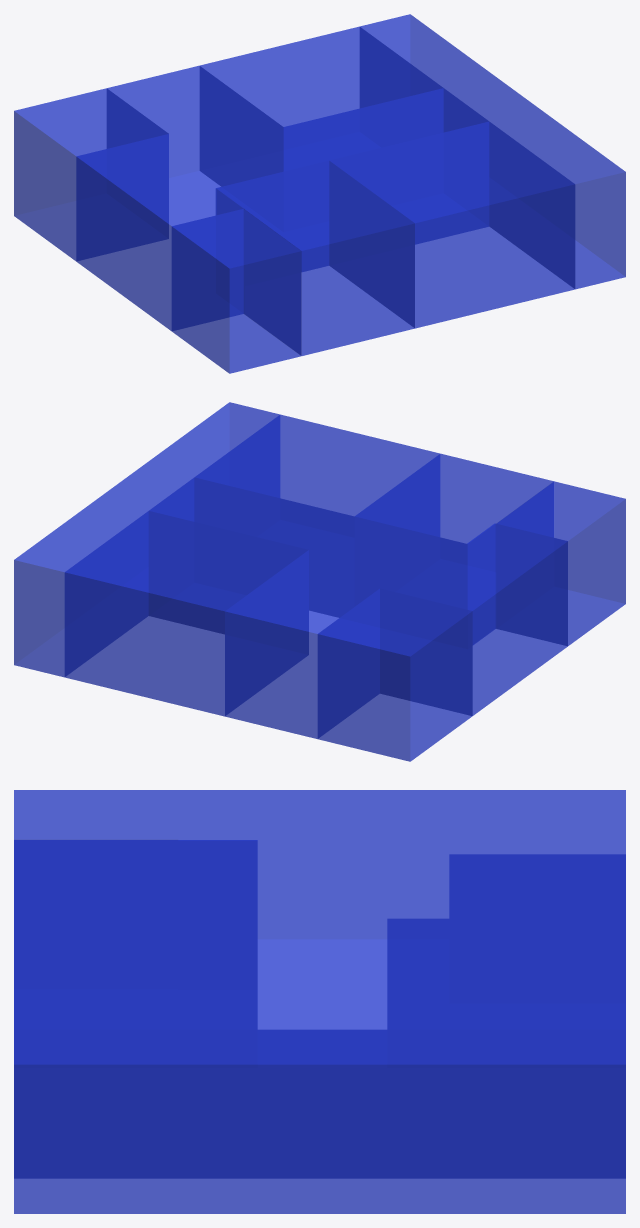
Rendered from areabox.gltf.
3 views of the same model, one above another, from view 1: azimuth 30°, elevation 25°; view 2: azimuth 150°, elevation 25°; view 3: azimuth 270°, elevation 25° (orthographic). The views are drawn at different scales.
Parts seen in each view (by area): view 1: 1F_AreaBox_Stairs, 1F_AreaBox_FrontRoom, 1F_AreaBox_Entrance, 1F_AreaBox_LivingRoom, 1F_AreaBox_DiningRoom, 1F_AreaBox_RestRoom, 1F_AreaBox_Kicken; view 2: 1F_AreaBox_Stairs, 1F_AreaBox_LivingRoom, 1F_AreaBox_Entrance, 1F_AreaBox_FrontRoom, 1F_AreaBox_RestRoom, 1F_AreaBox_DiningRoom, 1F_AreaBox_Kicken; view 3: 1F_AreaBox_Entrance, 1F_AreaBox_Stairs, 1F_AreaBox_LivingRoom, 1F_AreaBox_FrontRoom, 1F_AreaBox_DiningRoom, 1F_AreaBox_RestRoom, 1F_AreaBox_Kicken.
Part boxes in pixels (x1=…): 1F_AreaBox_Stairs: x1=76, y1=65, x2=488, y2=330; 1F_AreaBox_FrontRoom: x1=329, y1=121, x2=575, y2=328; 1F_AreaBox_Entrance: x1=360, y1=14, x2=625, y2=289; 1F_AreaBox_LivingRoom: x1=200, y1=26, x2=443, y2=186; 1F_AreaBox_DiningRoom: x1=216, y1=160, x2=414, y2=355; 1F_AreaBox_RestRoom: x1=14, y1=88, x2=168, y2=261; 1F_AreaBox_Kicken: x1=171, y1=209, x2=301, y2=373; 1F_AreaBox_Stairs: x1=149, y1=477, x2=567, y2=738; 1F_AreaBox_LivingRoom: x1=64, y1=511, x2=308, y2=716; 1F_AreaBox_Entrance: x1=14, y1=402, x2=279, y2=677; 1F_AreaBox_FrontRoom: x1=194, y1=414, x2=439, y2=617; 1F_AreaBox_RestRoom: x1=317, y1=588, x2=472, y2=761; 1F_AreaBox_DiningRoom: x1=355, y1=453, x2=553, y2=644; 1F_AreaBox_Kicken: x1=497, y1=481, x2=625, y2=645; 1F_AreaBox_Entrance: x1=14, y1=1029, x2=625, y2=1213; 1F_AreaBox_Stairs: x1=178, y1=790, x2=625, y2=1178; 1F_AreaBox_LivingRoom: x1=387, y1=918, x2=625, y2=1178; 1F_AreaBox_FrontRoom: x1=14, y1=918, x2=257, y2=1178; 1F_AreaBox_DiningRoom: x1=14, y1=840, x2=257, y2=1029; 1F_AreaBox_RestRoom: x1=449, y1=790, x2=625, y2=918; 1F_AreaBox_Kicken: x1=14, y1=790, x2=178, y2=917.
Bounding box in the file's own units: 10.62 × 2.69 × 10.01.
